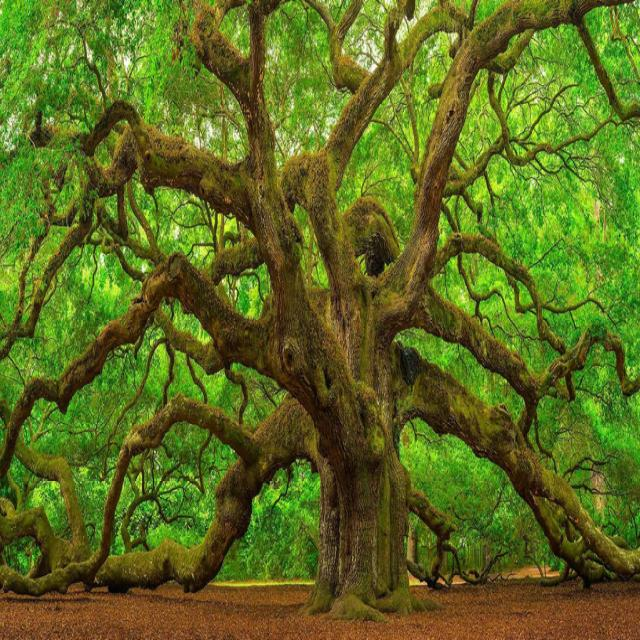Tree: (6, 5, 638, 603)
